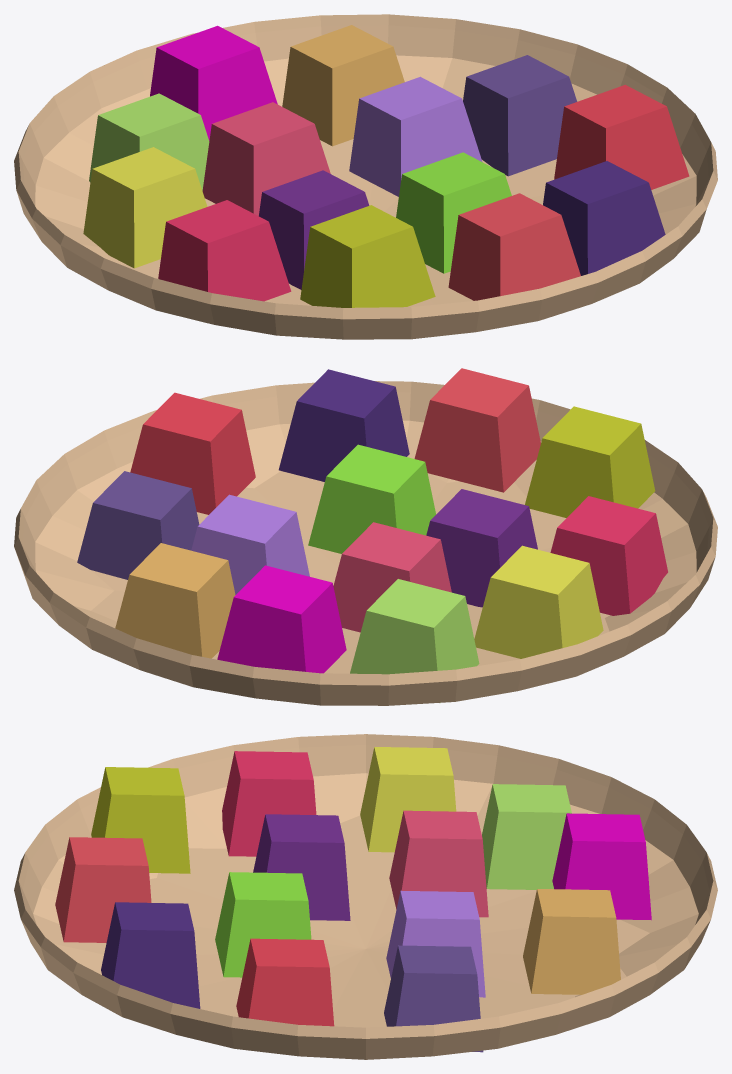
File: AGAR AGAR KERING.fbx
The picture shows the model from 3 angles, top to bottom: view 1: azimuth 30°, elevation 25°; view 2: azimuth 150°, elevation 25°; view 3: azimuth 270°, elevation 25°; orthographic projection.
Parts seen in each view (by area): view 1: Cylinder, Cube.004, Cube.003, Cube.009, Cube.006, Cube.012, Cube.005, Cube, Cube.013, Cube.014, Cube.002, Cube.008 (+3 smaller); view 2: Cylinder, Cube.003, Cube.006, Cube.008, Cube.004, Cube.014, Cube, Cube.002, Cube.007, Cube.011, Cube.005, Cube.012 (+3 smaller); view 3: Cylinder, Cube.014, Cube.002, Cube.007, Cube.008, Cube.003, Cube.004, Cube.013, Cube, Cube.010, Cube.005, Cube.006 (+3 smaller).
Boxes of the visible parts, bbox=[...] form: Cylinder: bbox=[14, 14, 717, 339]; Cube.004: bbox=[300, 205, 435, 307]; Cube.003: bbox=[448, 193, 580, 300]; Cube.009: bbox=[349, 76, 482, 196]; Cube.006: bbox=[83, 147, 207, 268]; Cube.012: bbox=[463, 55, 577, 176]; Cube.005: bbox=[158, 200, 291, 301]; Cube: bbox=[554, 84, 689, 189]; Cube.013: bbox=[202, 102, 330, 215]; Cube.014: bbox=[282, 25, 404, 146]; Cube.002: bbox=[543, 161, 665, 275]; Cube.008: bbox=[150, 25, 277, 140]; Cylinder: bbox=[14, 381, 717, 705]; Cube.003: bbox=[414, 368, 540, 492]; Cube.006: bbox=[474, 545, 603, 658]; Cube.008: bbox=[217, 565, 346, 673]; Cube.004: bbox=[525, 406, 655, 517]; Cube.014: bbox=[115, 543, 235, 658]; Cube: bbox=[130, 392, 255, 514]; Cube.002: bbox=[278, 369, 409, 481]; Cube.007: bbox=[350, 579, 479, 702]; Cube.011: bbox=[308, 444, 435, 553]; Cube.005: bbox=[550, 496, 667, 615]; Cube.012: bbox=[77, 471, 199, 579]; Cylinder: bbox=[14, 734, 717, 1059]; Cube.014: bbox=[523, 889, 620, 994]; Cube.002: bbox=[101, 902, 200, 1008]; Cube.007: bbox=[482, 784, 571, 889]; Cube.008: bbox=[552, 813, 651, 920]; Cube.003: bbox=[55, 837, 151, 942]; Cube.004: bbox=[91, 767, 190, 873]; Cube.013: bbox=[389, 810, 488, 917]; Cube: bbox=[236, 938, 334, 1026]; Cube.010: bbox=[253, 814, 350, 920]; Cube.005: bbox=[222, 751, 316, 856]; Cube.006: bbox=[360, 747, 456, 852].
Bounding box in the file's own units: 392 × 71.56 × 392.
